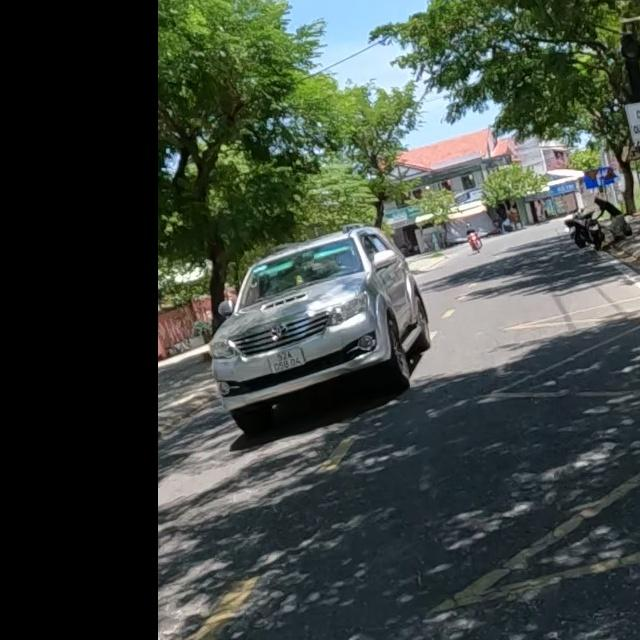license-plate: (267, 347, 306, 374)
